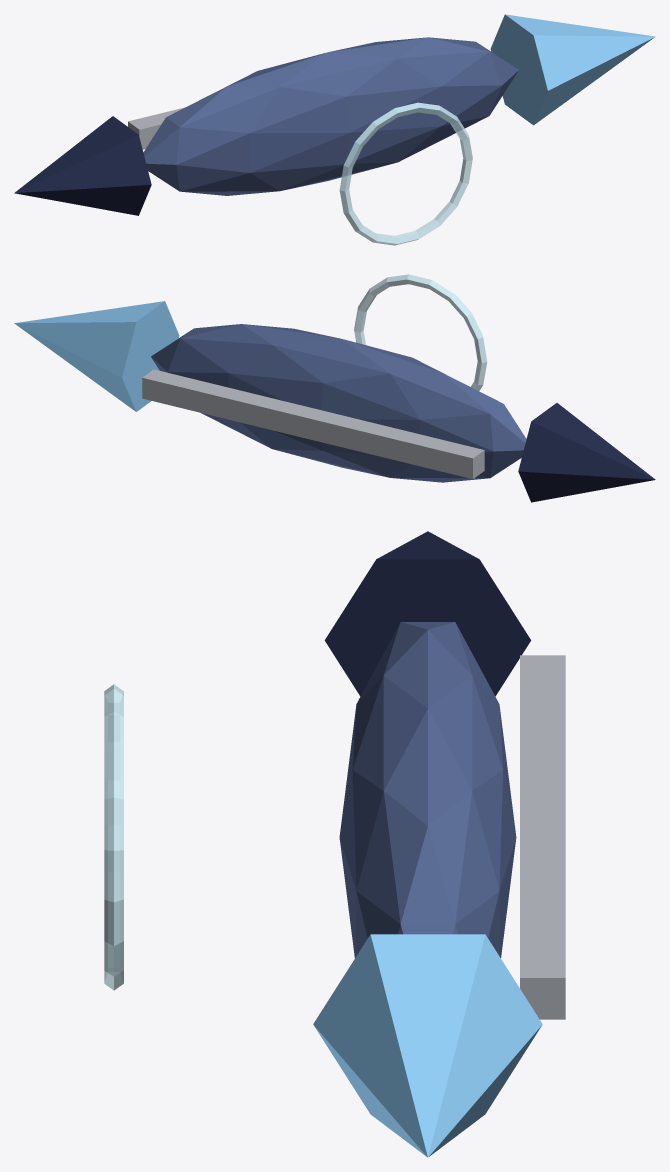
File: 05_skyship_hull.glb
The picture shows the model from 3 angles, top to bottom: view 1: azimuth 30°, elevation 25°; view 2: azimuth 150°, elevation 25°; view 3: azimuth 270°, elevation 25°; orthographic projection. The views are drawn at different scales.
Parts seen in each view (by area): view 1: hull_low_poly, bow_upgrade, stern_fin, size_class_ring, keel_plate; view 2: hull_low_poly, keel_plate, bow_upgrade, stern_fin, size_class_ring; view 3: hull_low_poly, bow_upgrade, stern_fin, keel_plate, size_class_ring.
Boxes of the visible parts, <box> form: hull_low_poly: <box>143,37,518,195</box>; bow_upgrade: <box>490,14,655,125</box>; stern_fin: <box>14,116,151,215</box>; size_class_ring: <box>339,102,472,245</box>; keel_plate: <box>128,107,184,149</box>; hull_low_poly: <box>151,324,526,482</box>; keel_plate: <box>142,369,484,478</box>; bow_upgrade: <box>14,301,179,411</box>; stern_fin: <box>518,403,655,502</box>; size_class_ring: <box>354,274,487,390</box>; hull_low_poly: <box>339,622,516,957</box>; bow_upgrade: <box>313,934,542,1157</box>; stern_fin: <box>324,531,531,696</box>; keel_plate: <box>520,655,565,1019</box>; size_class_ring: <box>104,684,123,990</box>.
Bounding box in the file's own units: 3.87 × 0.7918 × 1.21.
